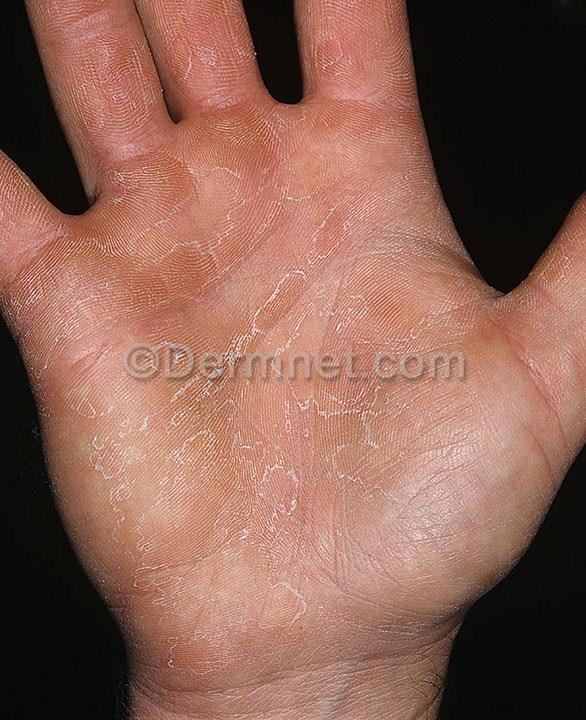Eczema: (111, 326, 405, 594), (151, 111, 372, 326), (388, 271, 559, 435), (0, 224, 144, 379), (295, 15, 429, 106), (66, 11, 142, 129), (178, 0, 259, 110)
